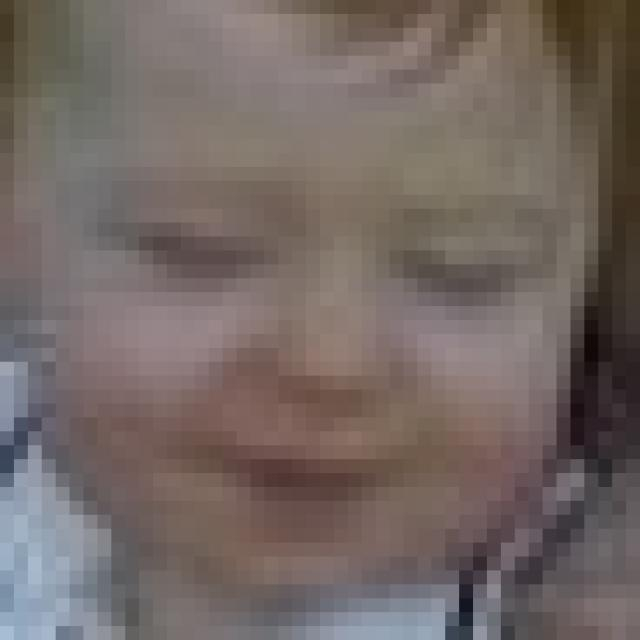Eyeclosed: (404, 231, 525, 303), (137, 209, 267, 274)
